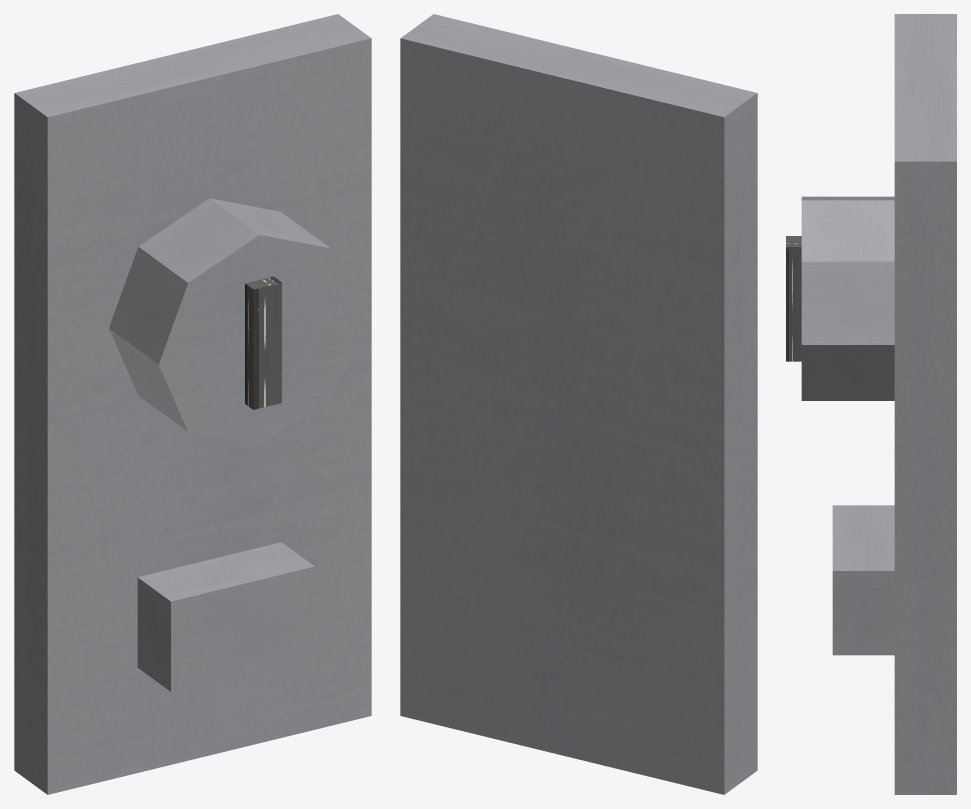
Rendered from Door_Lock.fbx.
3 renders of one model, left to right at view 1: azimuth 30°, elevation 25°; view 2: azimuth 150°, elevation 25°; view 3: azimuth 270°, elevation 25°, orthographic. The views are drawn at different scales.
Parts seen in each view (by area): view 1: Door_Lock; view 2: Door_Lock; view 3: Door_Lock.
Part boxes in pixels (box(x1,y1,x2,y2)): Door_Lock: box(14, 14, 371, 794); Door_Lock: box(400, 14, 757, 794); Door_Lock: box(786, 14, 956, 794).
Bounding box in the file's own units: 0.045 × 0.09 × 0.022.
